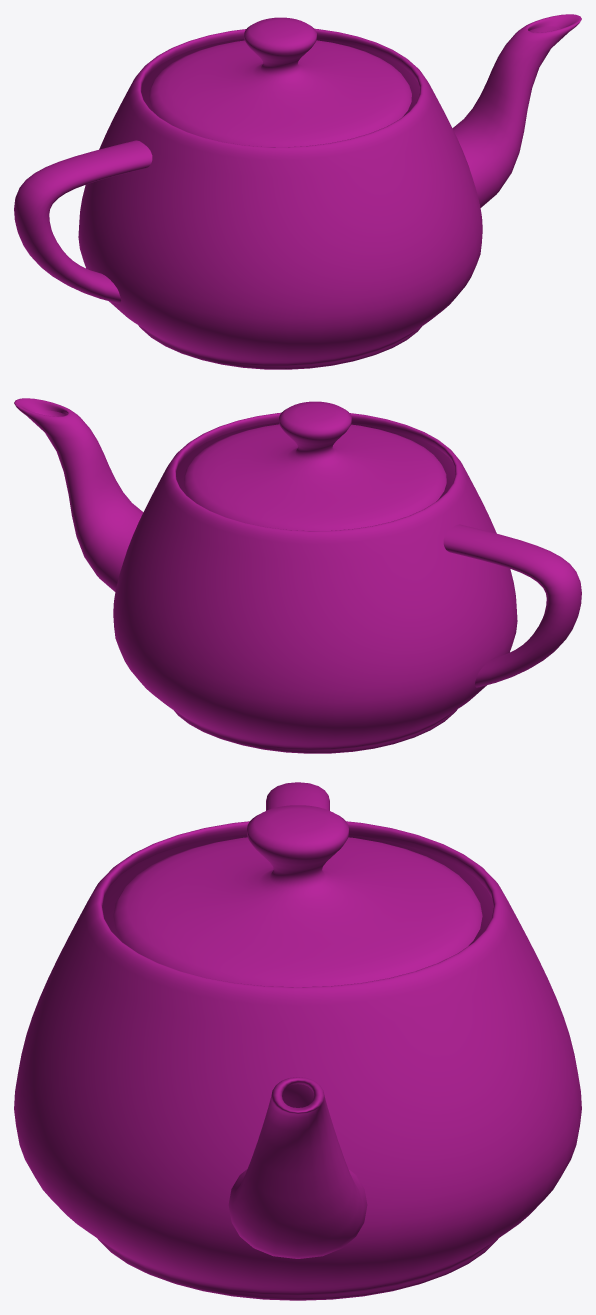
File: teapot.DAE
3 views of the same model, one above another, from view 1: azimuth 30°, elevation 25°; view 2: azimuth 150°, elevation 25°; view 3: azimuth 270°, elevation 25° (orthographic). The views are drawn at different scales.
Parts seen in each view (by area): view 1: Teapot001; view 2: Teapot001; view 3: Teapot001.
Boxes of the visible parts, x1,y1,x2,y2 form: Teapot001: (14,14,581,369); Teapot001: (14,398,581,753); Teapot001: (14,782,581,1300).
Bounding box in the file's own units: 128 × 79.29 × 62.44.
